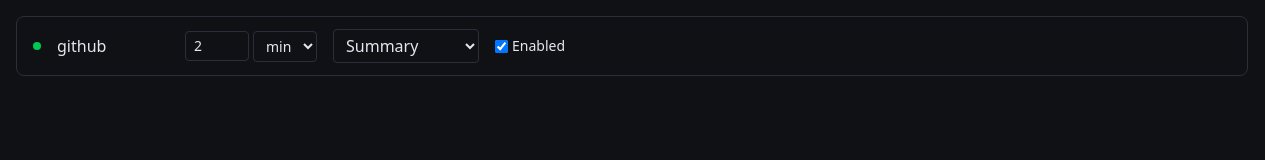
ConnectorsPanel › clears a pending debounce when interval becomes invalid after a valid entry
Replace the text in the number field named "github interval value" with "3": (217, 46) left=185, top=31, right=249, bottom=61
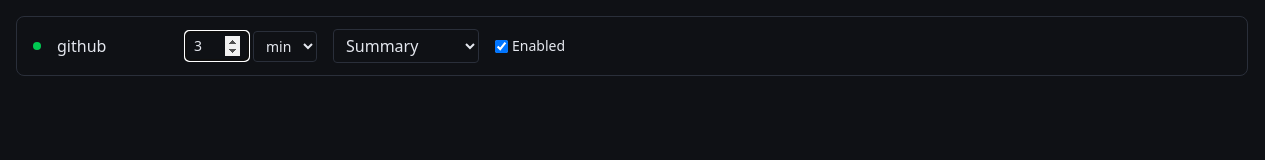
Select "sec" in the dropdown named "github interval unit": (285, 46) left=253, top=30, right=317, bottom=62
Wait 600 ms
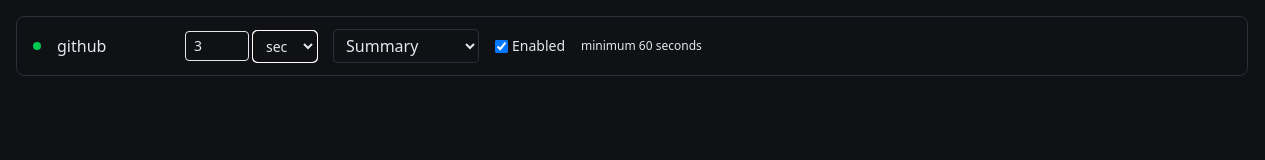
Check: the text "minimum 60 seconds" is shown, box left=581, top=38, right=702, bottom=54
